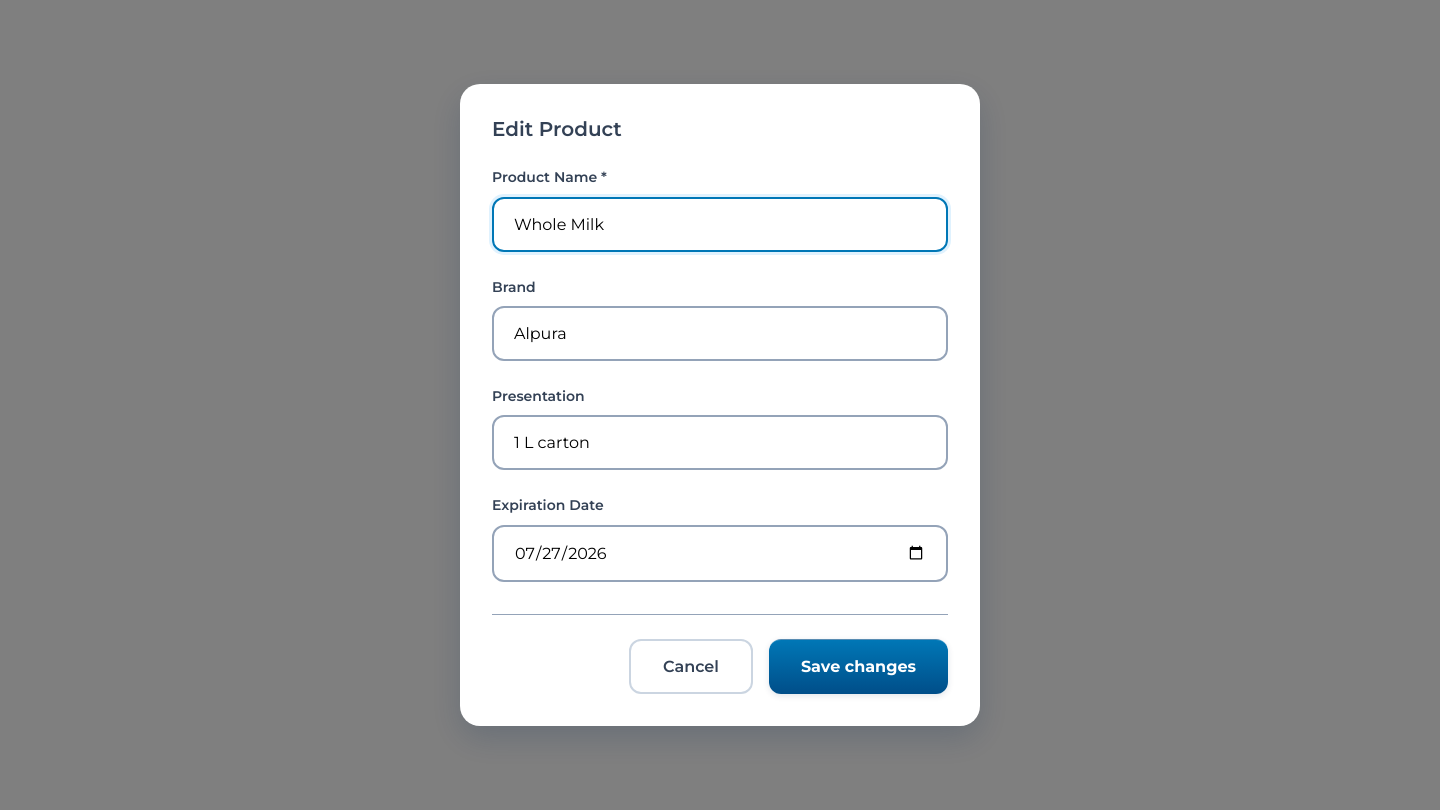
Test case: EditForm › keeps the form open, retains values, and re-enables submit when the update fails
The image size is (1440, 810).
Replace the text in the field with test id "edit-field-productName" with "Skim Milk" at (720, 224), box [492,197,948,252]
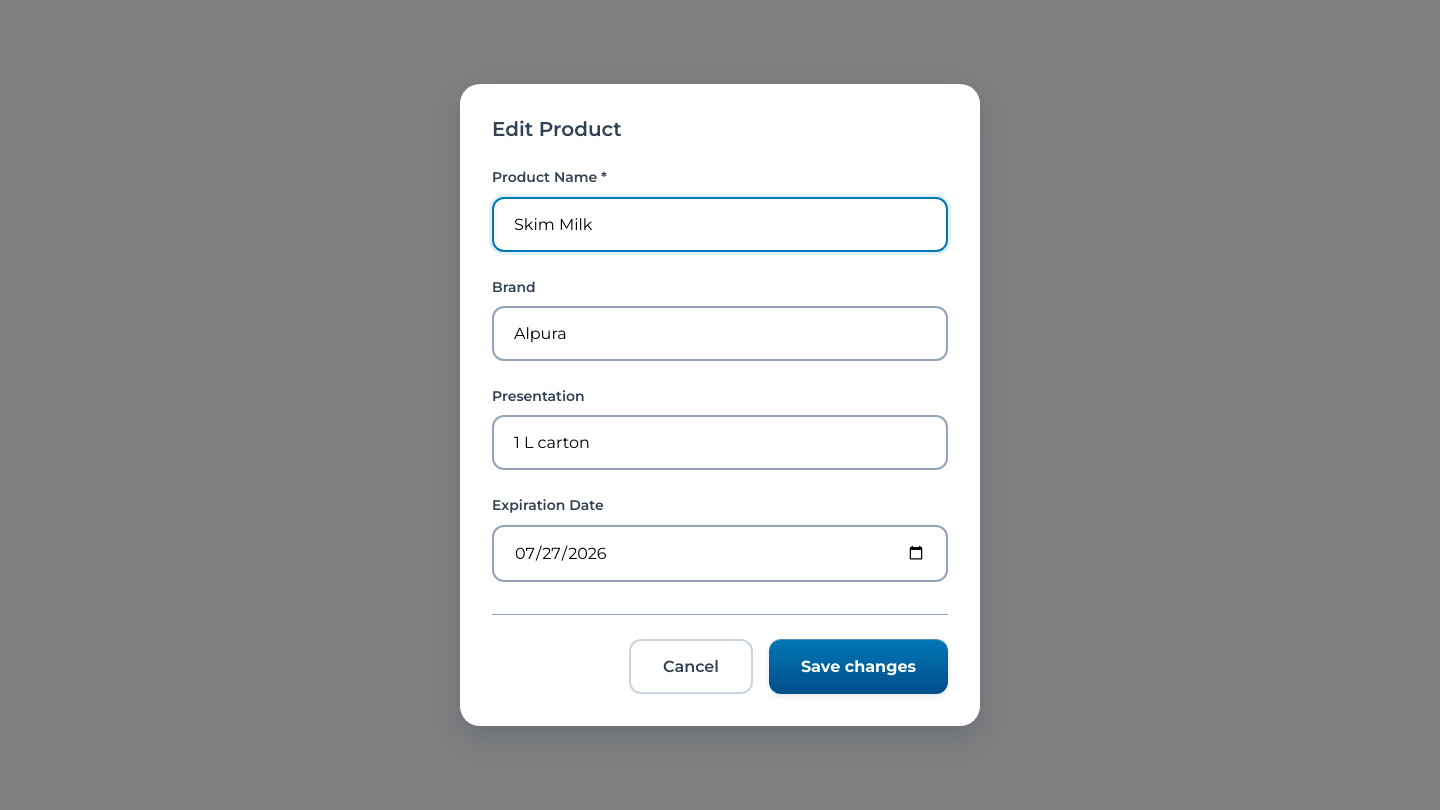
Replace the text in the field with test id "edit-field-brand" with "Lala" at (720, 334), box [492,306,948,361]
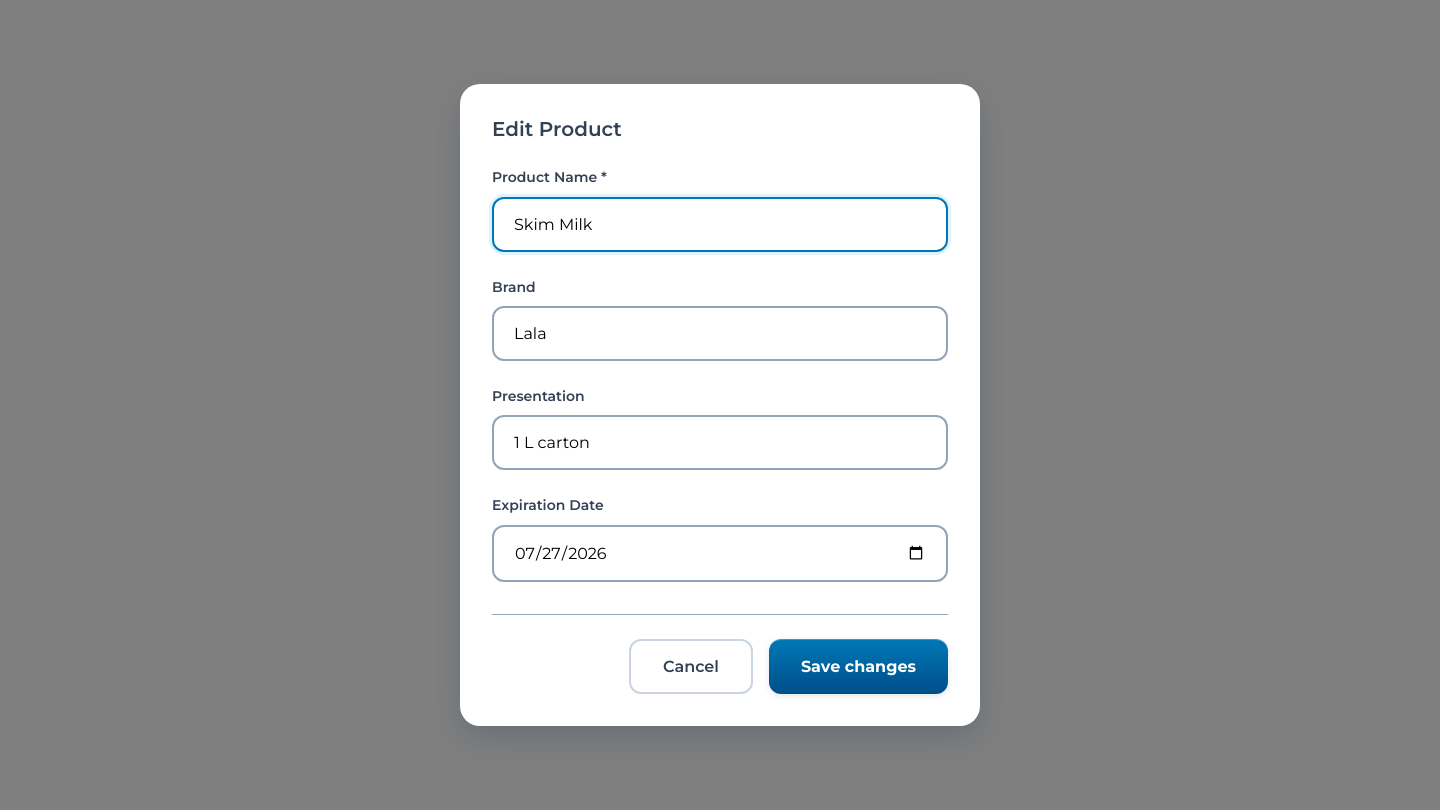
Click the button with test id "edit-submit-btn" at (858, 666), box [769,639,948,694]
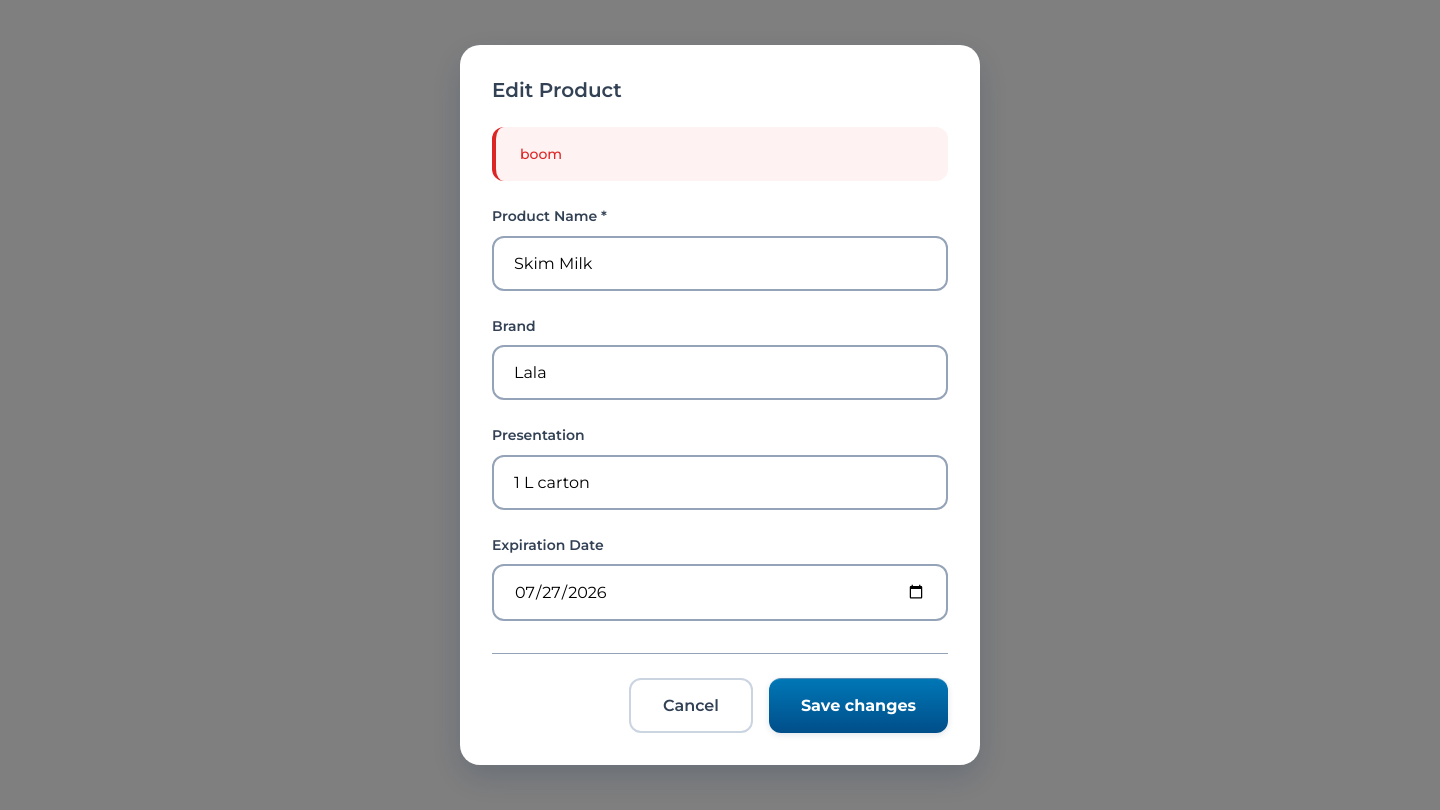
Expected: the button with test id "edit-submit-btn" is enabled, [769,678,948,733]
Now the message "boom" is shown, box [492,127,948,181]
Now the message with test id "edit-error" reads "boom", box [520,145,562,163]
